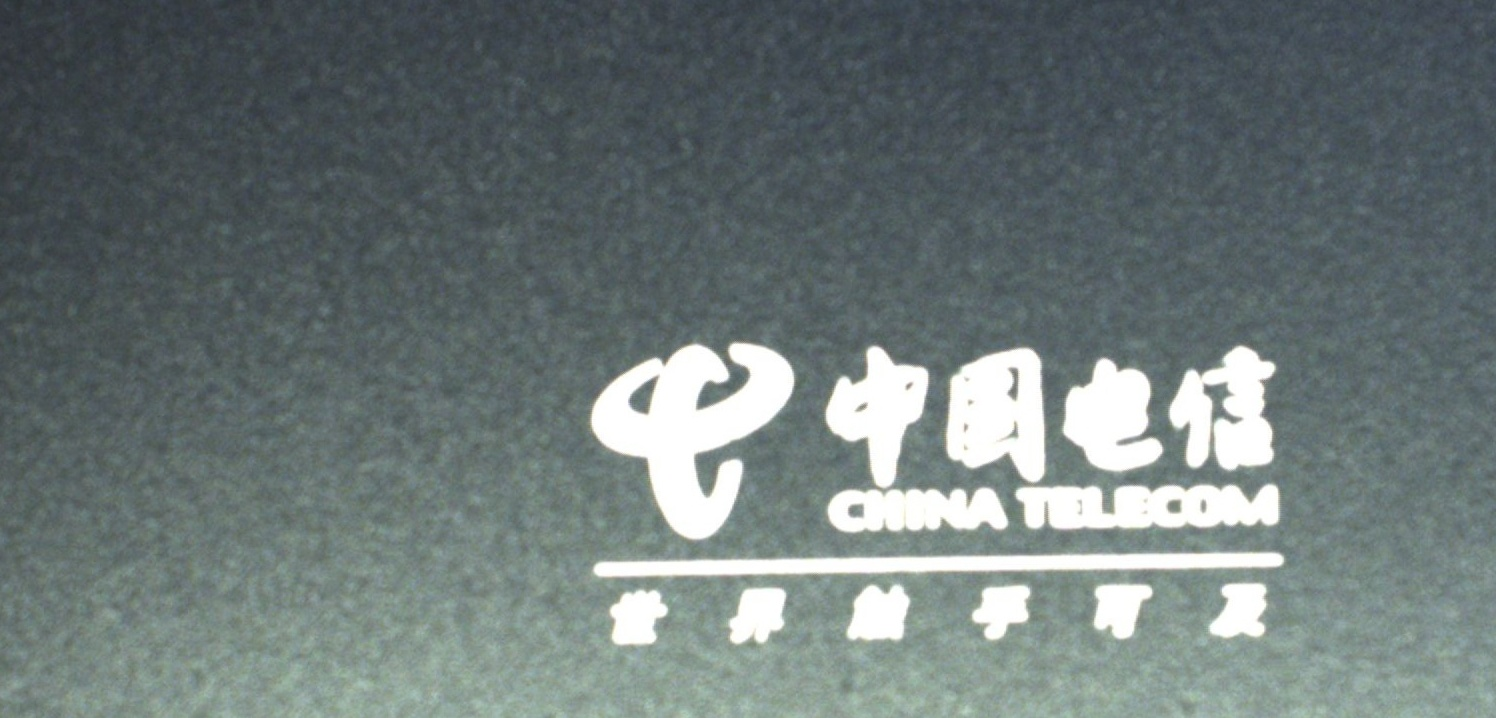AB_ChinaTelecom: (564, 332, 1291, 660)
